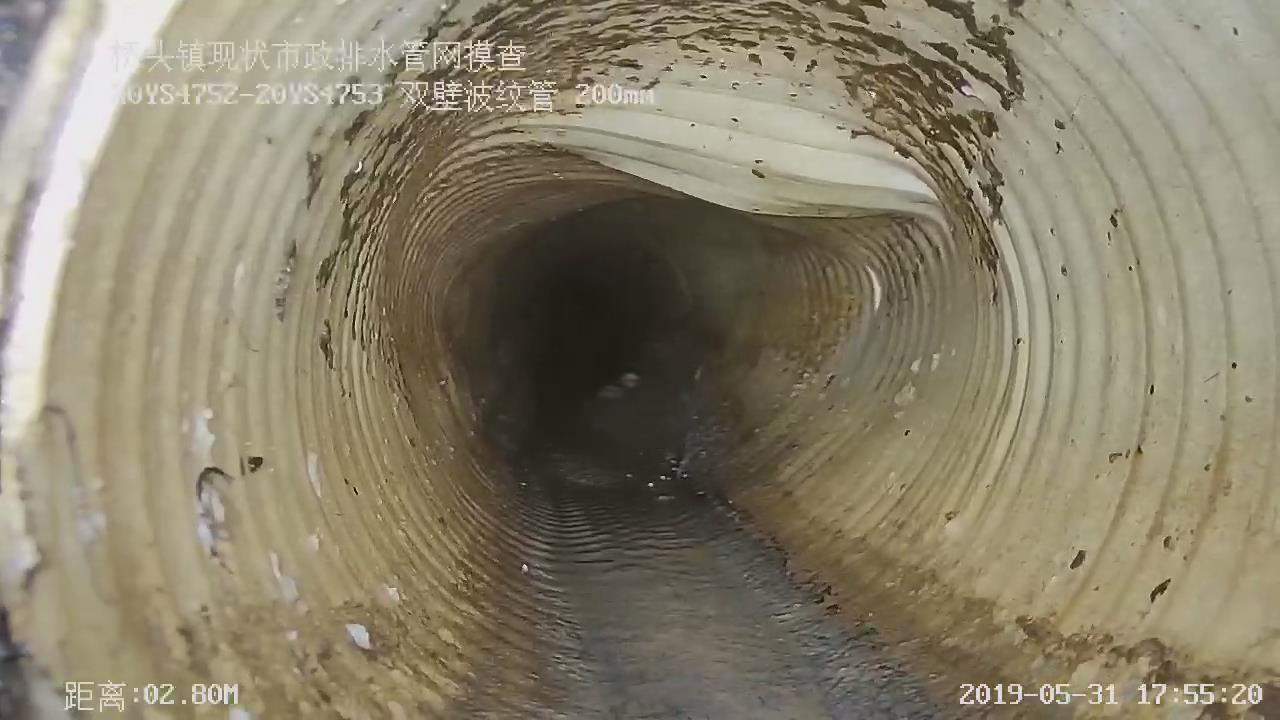BX: (445, 55, 992, 262)
